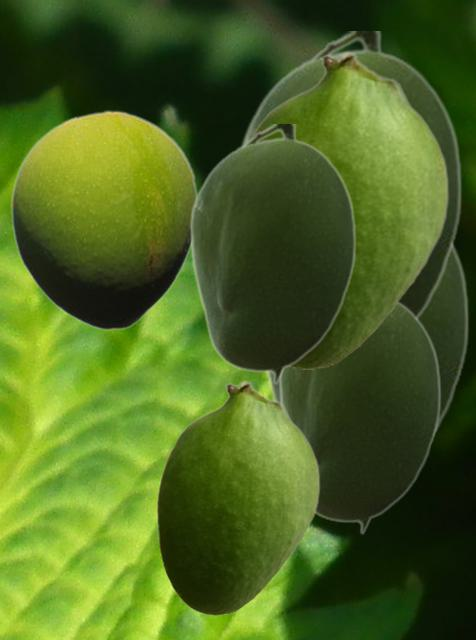green_mango: (236, 31, 461, 319), (246, 50, 448, 368), (188, 124, 355, 384), (10, 110, 198, 330), (263, 244, 468, 433), (156, 380, 319, 614), (277, 301, 440, 534)
